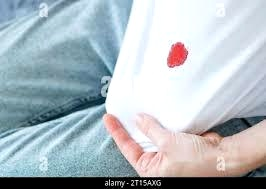blood: (165, 40, 188, 69)
